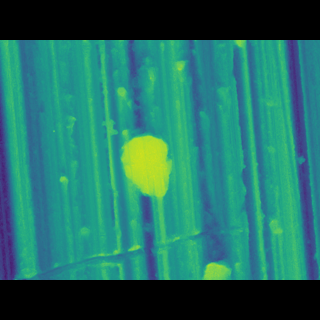Loch: (16, 205, 287, 251), (114, 135, 176, 193)
